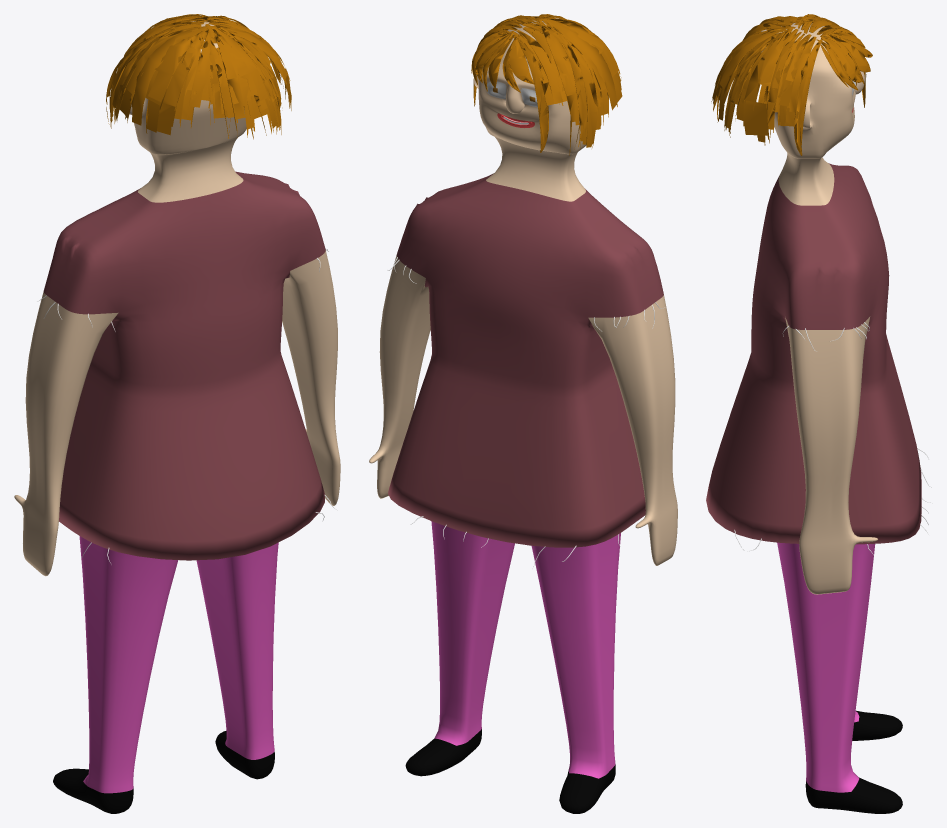
File: KindmitweienFasern.fbx
The picture shows the model from 3 angles, left to right: view 1: azimuth 30°, elevation 25°; view 2: azimuth 150°, elevation 25°; view 3: azimuth 270°, elevation 25°; orthographic projection. The views are drawn at different scales.
Visible parts, largest first — view 1: Cube.001, NurbsPath.001; view 2: Cube.001, NurbsPath.001; view 3: Cube.001, NurbsPath.001.
Part boxes in pixels (x1=…): Cube.001: x1=14, y1=21, x2=340, y2=813; NurbsPath.001: x1=106, y1=14, x2=291, y2=139; Cube.001: x1=369, y1=17, x2=677, y2=813; NurbsPath.001: x1=471, y1=14, x2=622, y2=155; Cube.001: x1=706, y1=23, x2=921, y2=813; NurbsPath.001: x1=711, y1=14, x2=872, y2=155.
Bounding box in the file's own units: 36.71 × 92.12 × 25.2.
